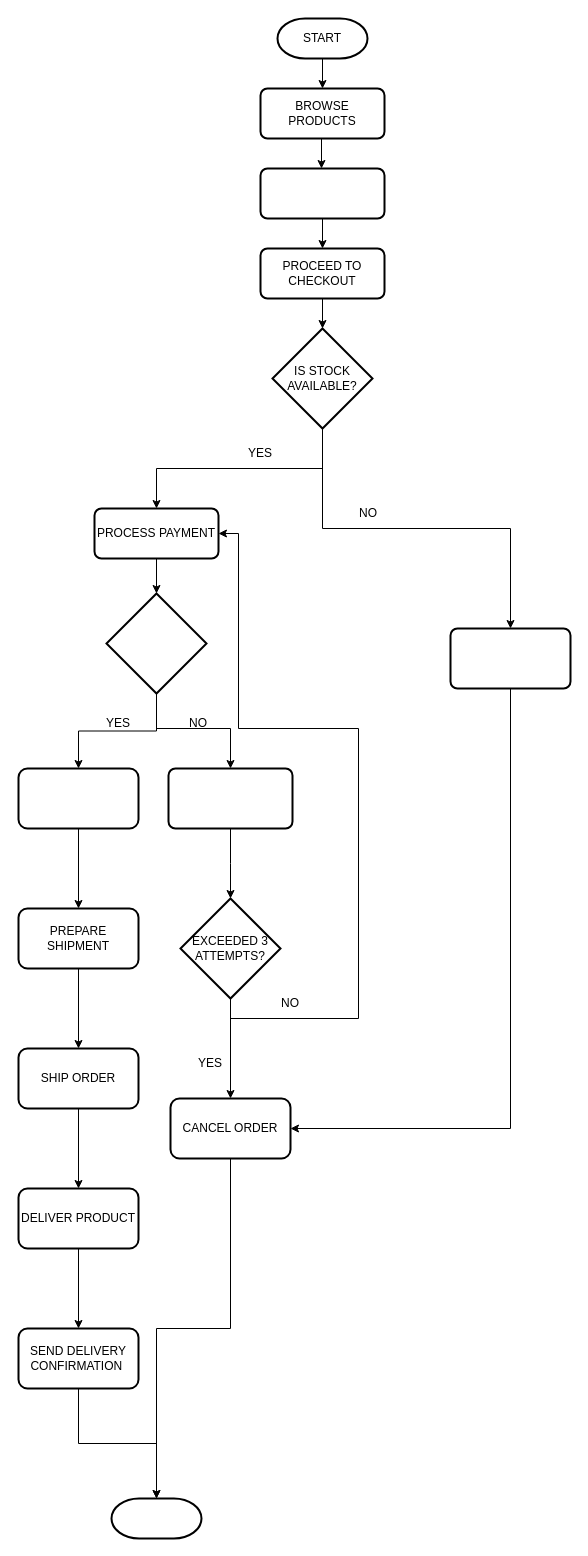
This 588x1556 diagram has some shape labels left out. Each missing label, with the box of its shape:
ADD PRODUCTS TO CART: (259, 167, 385, 219)
END: (110, 1497, 202, 1539)
NOTIFY OUT OF STOCK: (449, 627, 571, 689)
PAYMENT SUCCESFUL?: (105, 592, 207, 694)
RETRY PAYMENT: (167, 767, 293, 829)
SEND ORDER CONFIMRATION: (17, 767, 139, 829)
